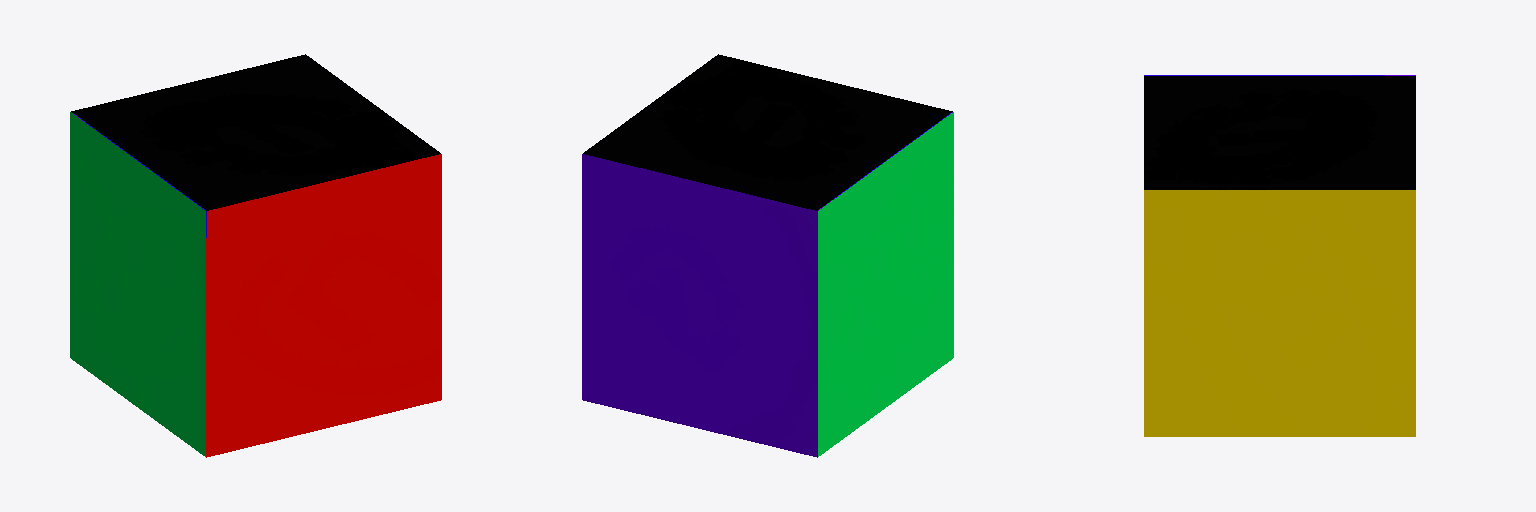
The picture shows the model from 3 angles: view 1: azimuth 30°, elevation 25°; view 2: azimuth 150°, elevation 25°; view 3: azimuth 270°, elevation 25°; orthographic projection.
Parts seen in each view (by area): view 1: pCube1; view 2: pCube1; view 3: pCube1.
Part boxes in pixels (left/top/right/bottom): pCube1: left=70, top=54, right=441, bottom=457; pCube1: left=582, top=54, right=953, bottom=457; pCube1: left=1144, top=75, right=1415, bottom=436.
Size of the model in its own units: 1 by 1 by 1.
1 materials, 1 textured.